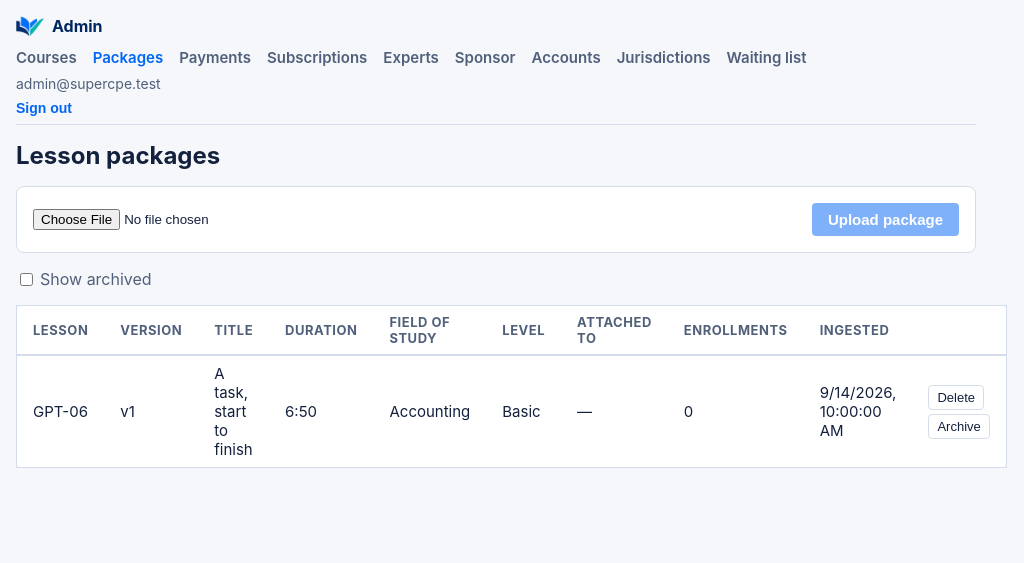
AdminPackages lifecycle (038) › renders a delete refusal's reasons, not 'Delete failed'
Click the button "Delete": (956, 397) [928,384,984,410]
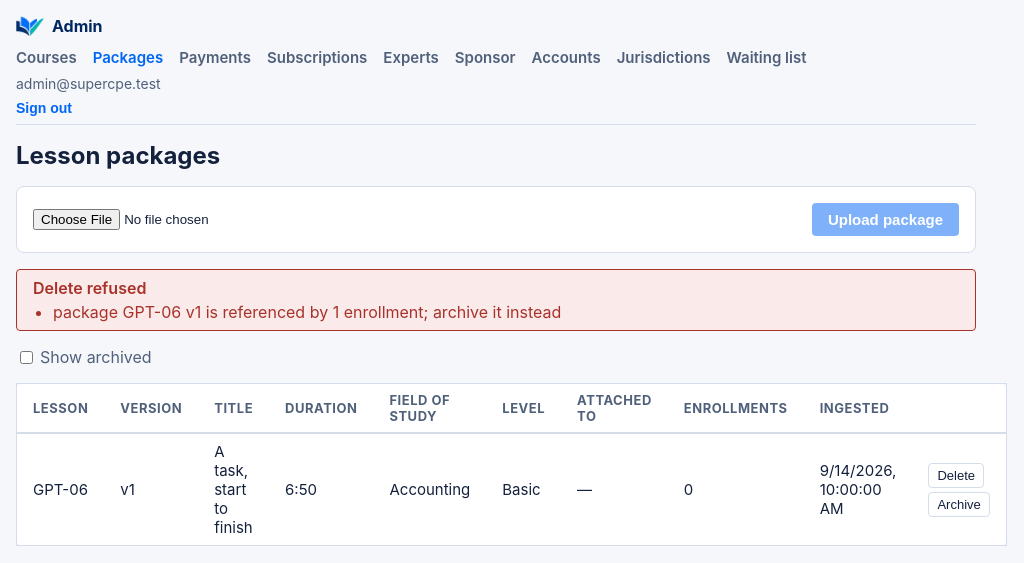
Check: the text "package GPT-06 v1 is referenced by 1 enrollment; archive it instead" is shown, box [53,302,561,322]
